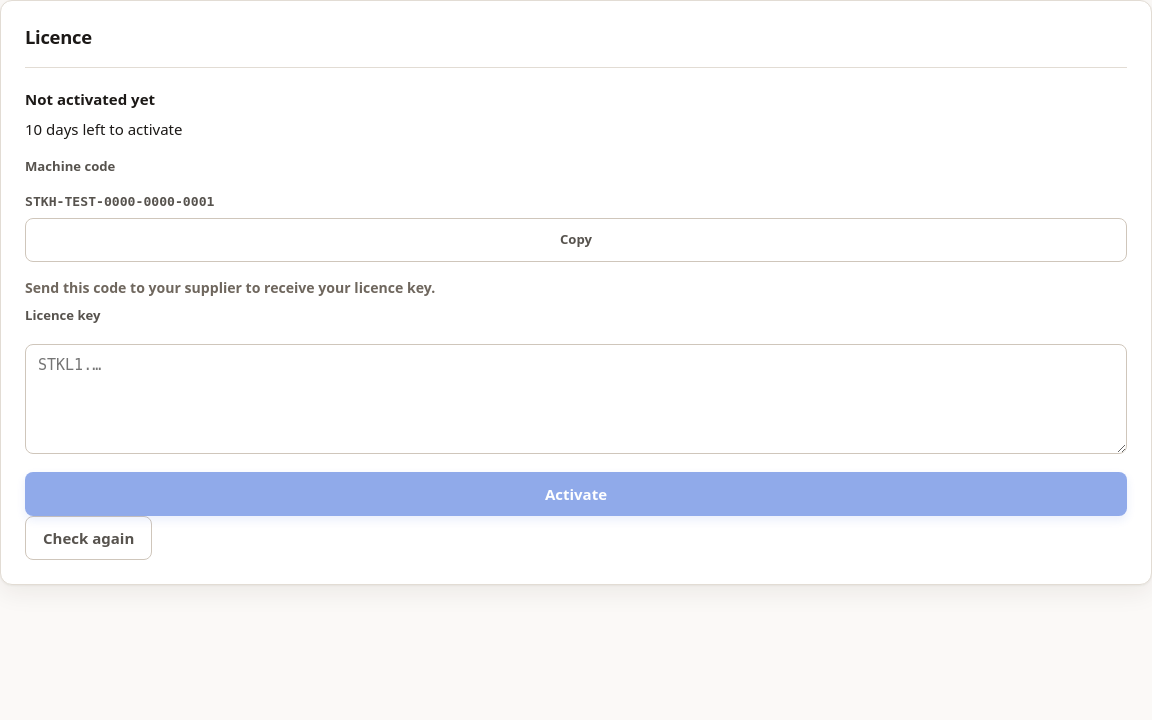
Test: WS-K-7-B LicenceSettingsCard › shows the localized message for LICENCE_WRONG_MACHINE
The width and height of the screenshot is (1152, 720).
Type "STKL1.abc.def" into the text box with test id "licence-key-input" at (576, 399), box x1=25 y1=344 x2=1127 y2=454
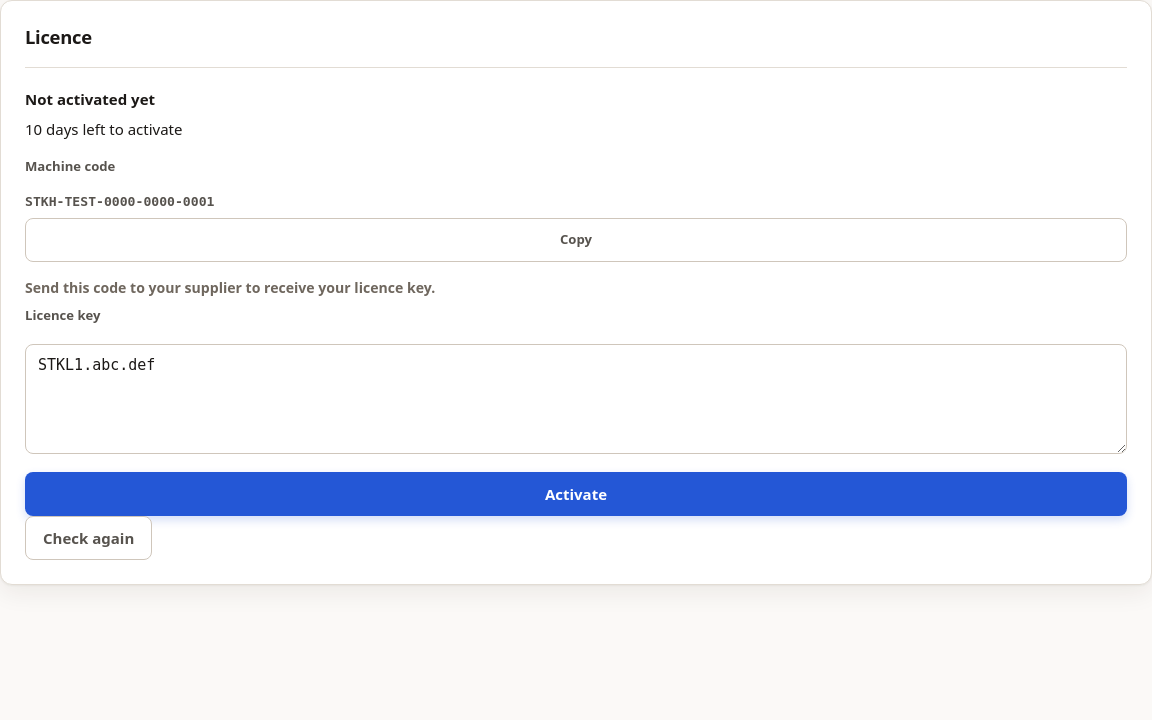
Click the button with test id "licence-activate" at (576, 494), box x1=25 y1=472 x2=1127 y2=516
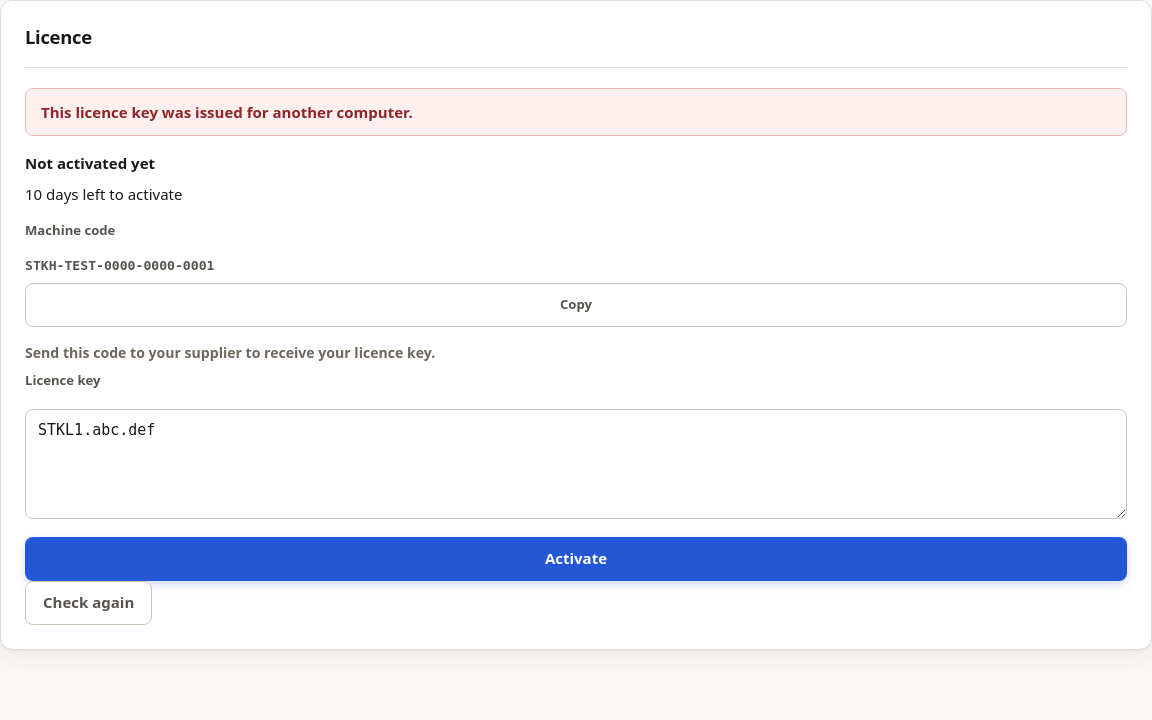
Expected: the message "This licence key was issued for another computer." is shown, x1=25 y1=88 x2=1127 y2=136
Expected: the message with test id "licence-card-banner" reads "This licence key was issued for another computer.", x1=41 y1=102 x2=413 y2=122
